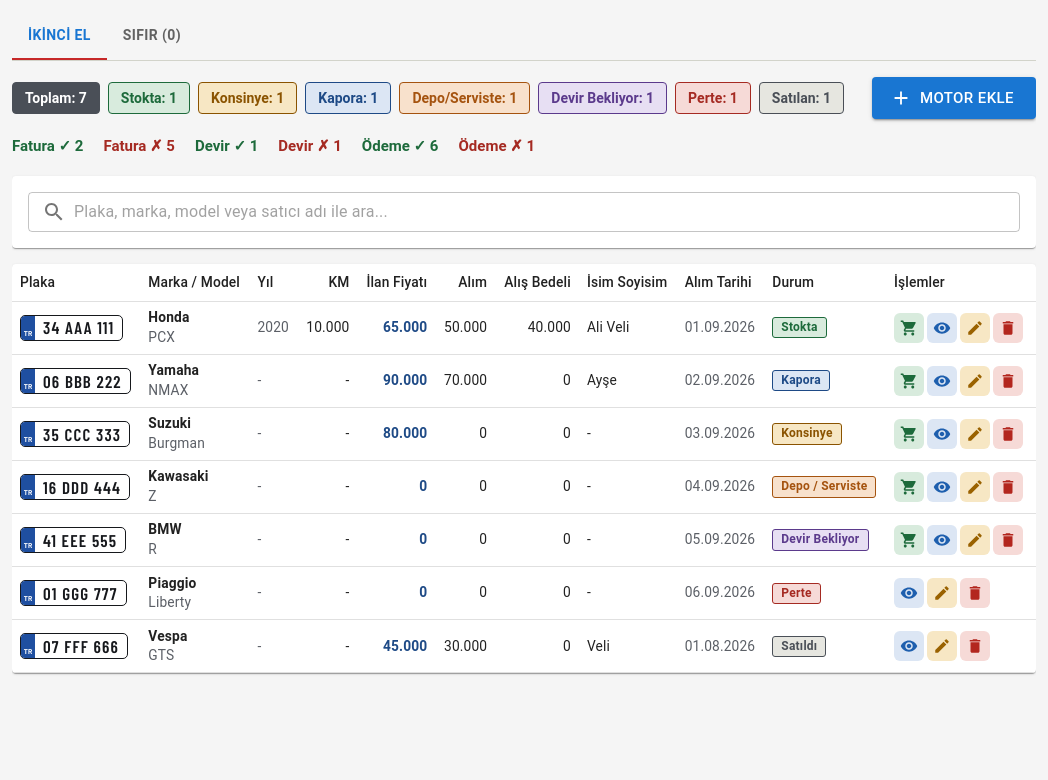
Scenario: Motor Stok: sayaçlar ve süzgeçler › arama plaka, marka, model, satıcı ve alıcı adında çalışır
Expected: the text "34 AAA 111" is shown, [43,318,114,338]
Type "nmax" into the field with placeholder "Plaka, marka, model veya satıcı adı ile ara...".
click(547, 212); type("nmax")  # box [74,192,1020,232]
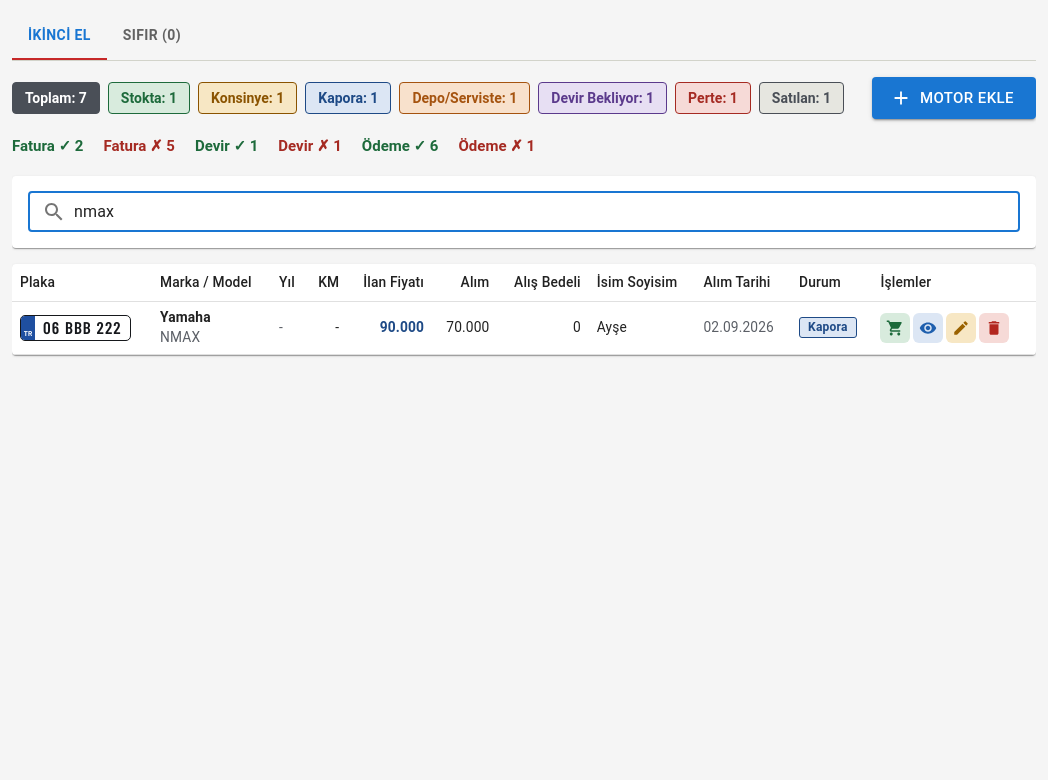
Replace the text in the field with placeholder "Plaka, marka, model veya satıcı adı ile ara..." with "ali veli" at (547, 212), box [74,192,1020,232]
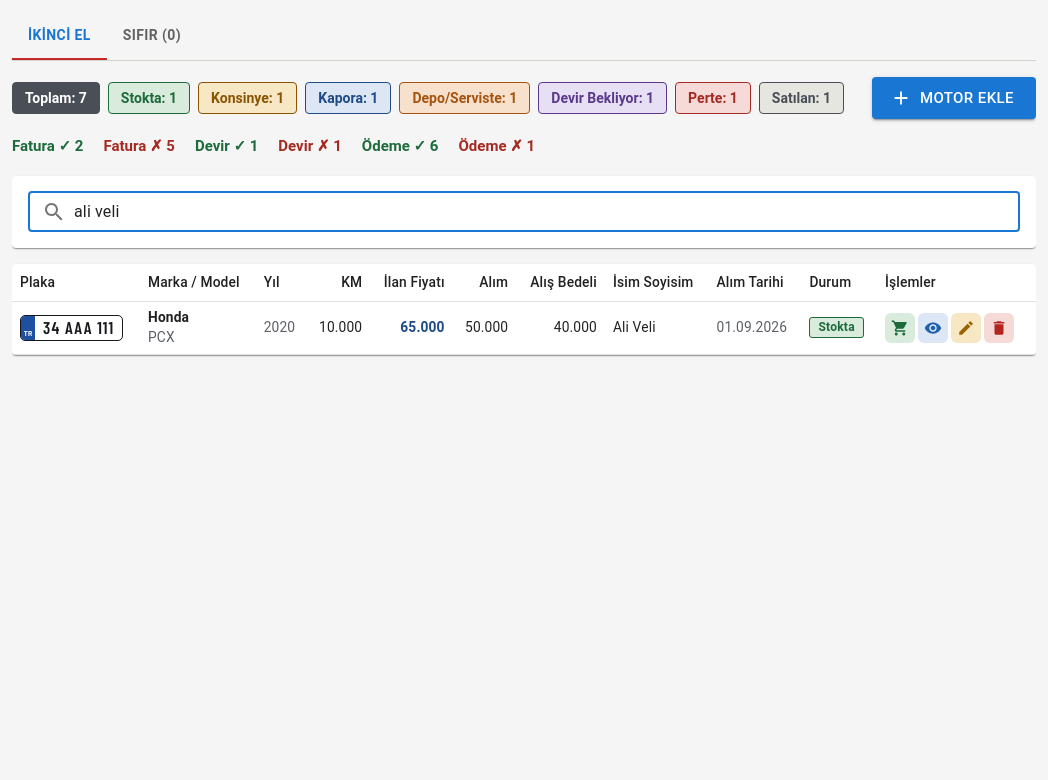
Replace the text in the field with placeholder "Plaka, marka, model veya satıcı adı ile ara..." with "zzz" at (547, 212), box [74,192,1020,232]
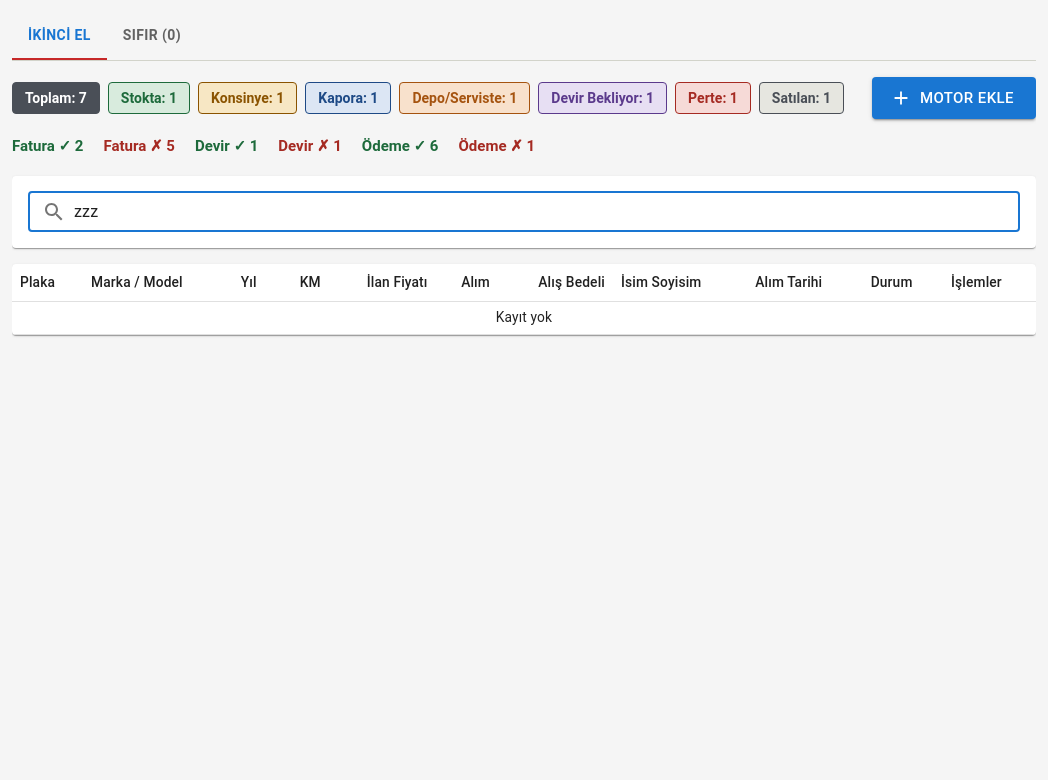
Result: the text "Kayıt yok" is shown at [12,301,1036,334]
